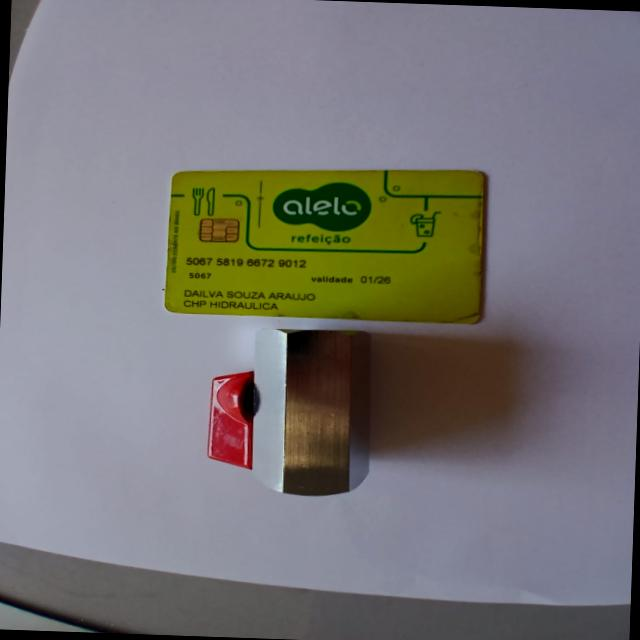cartao: (162, 159, 489, 327)
rosca_externa: (202, 324, 380, 504)
